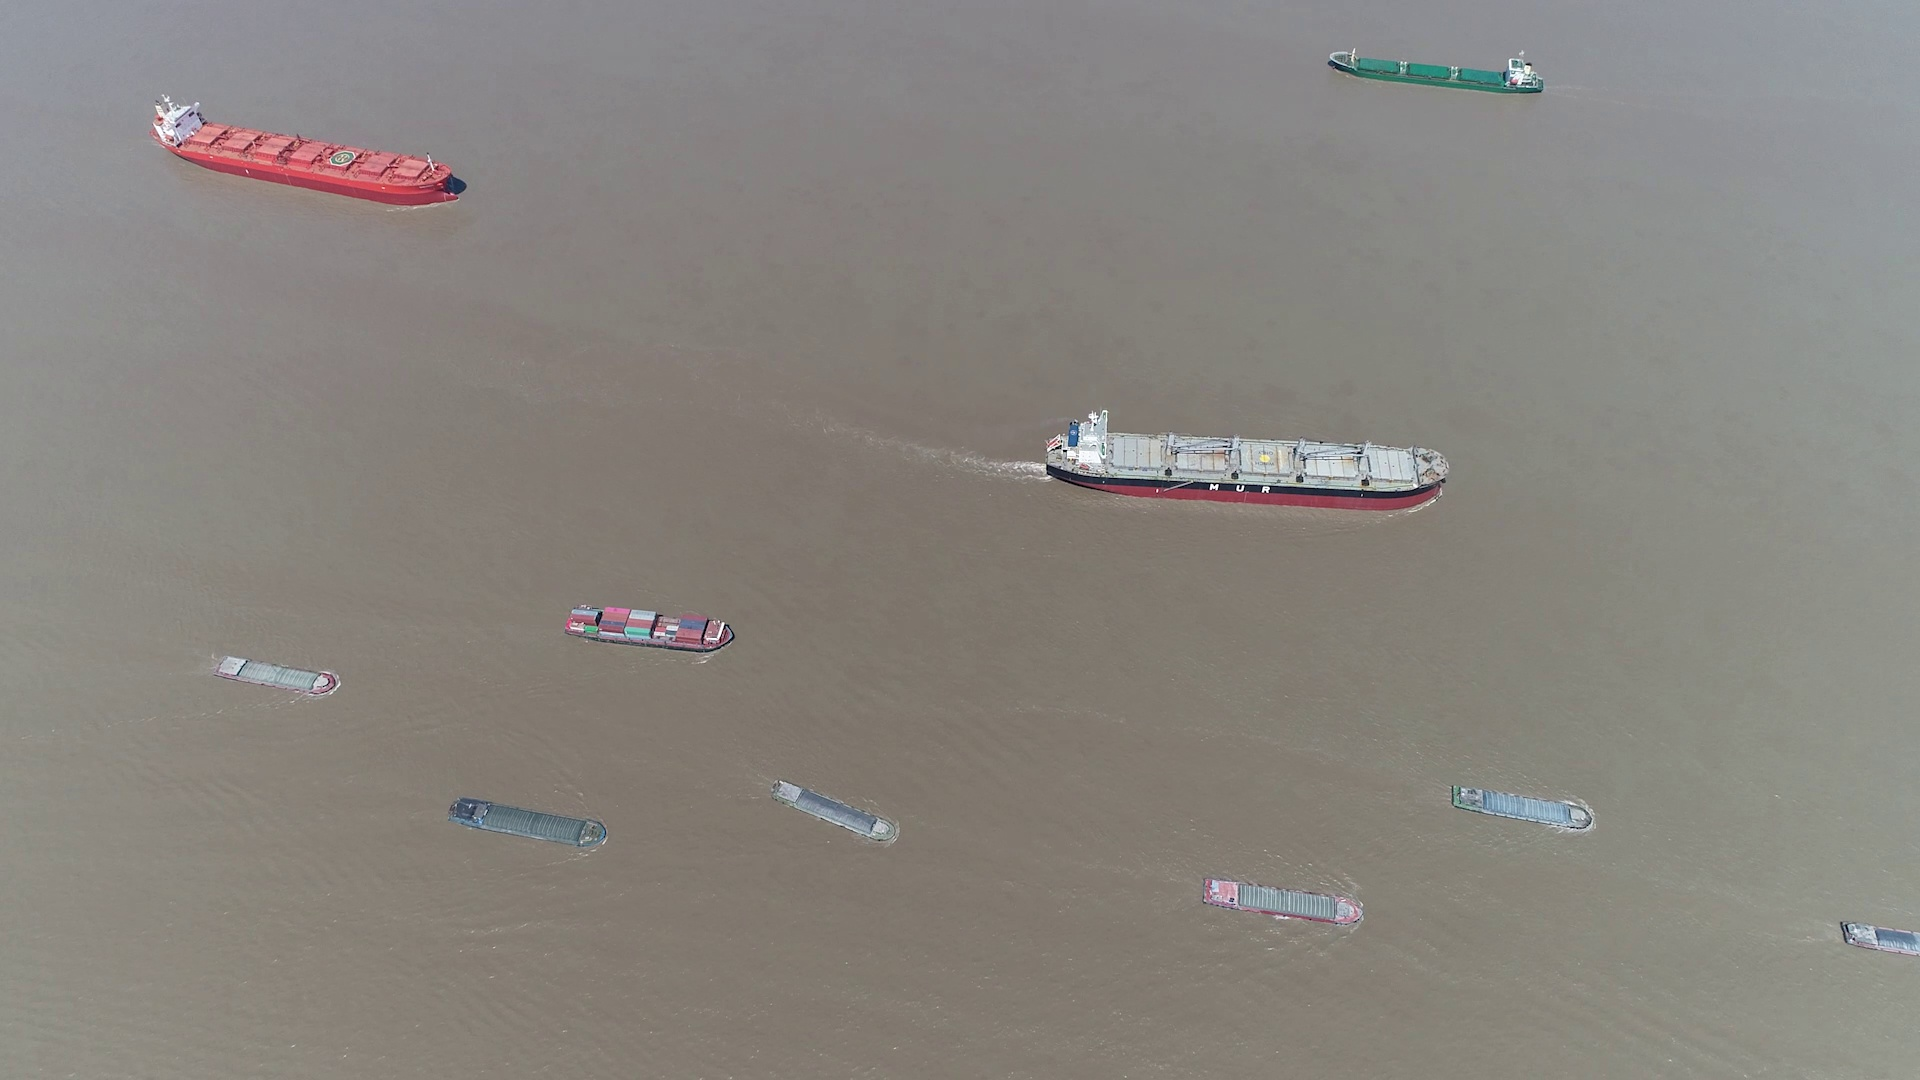ship: (1048, 414, 1445, 510), (152, 98, 458, 207), (1325, 47, 1545, 94), (448, 798, 609, 851), (564, 604, 738, 651), (777, 782, 898, 845), (1204, 877, 1364, 924), (1451, 785, 1594, 832), (215, 655, 339, 698), (1840, 920, 1920, 957)
